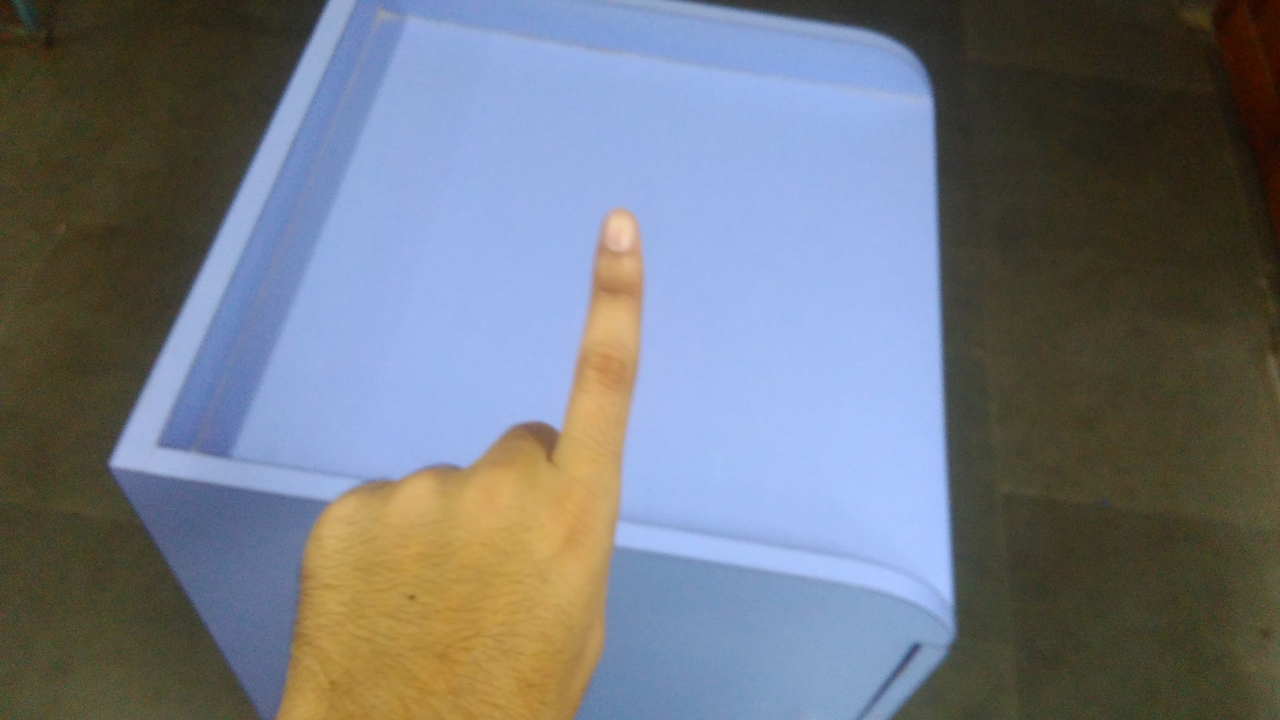fingertip: (588, 198, 652, 258)
